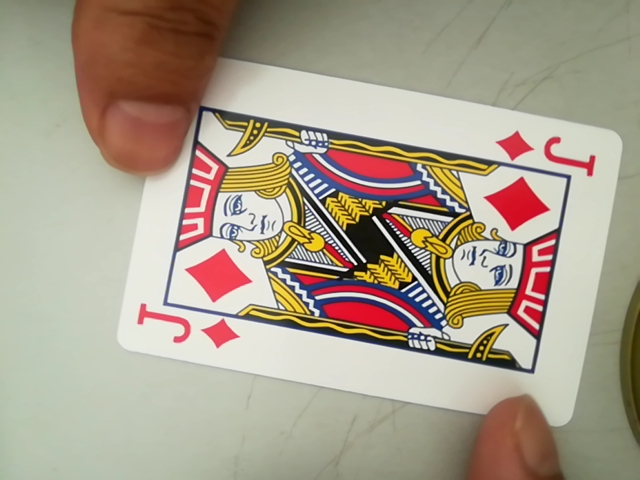fk j: (132, 305, 244, 356), (498, 127, 598, 172)
